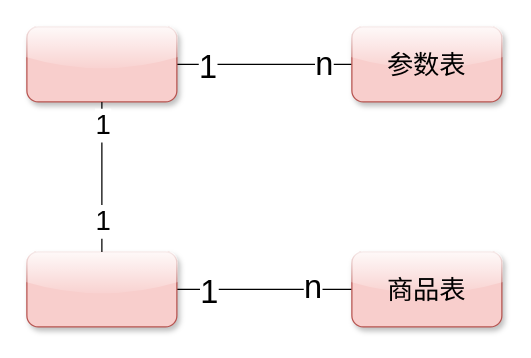
Image size: 531x358. Some labels were removed from this diagram. The shapes that lost their labels are listed below. From the top down, each one's centre as x and y in pixels, then its label:
At point 102,66: "品类表".
At point 102,291: "产品表".
